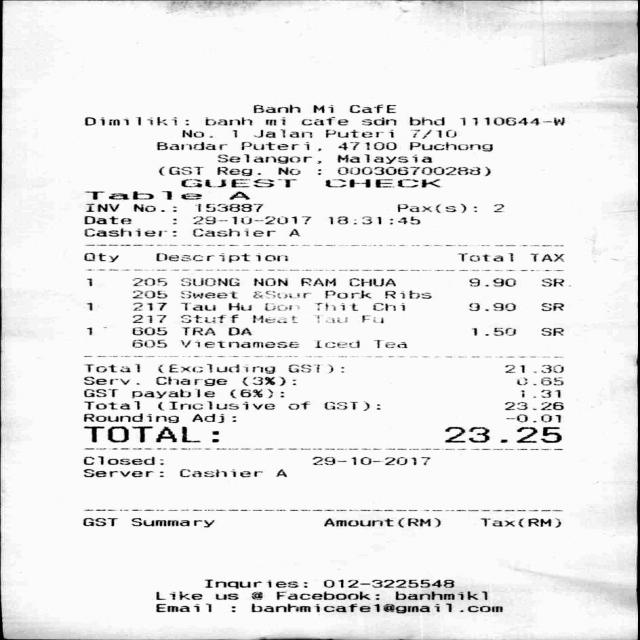text: (249, 603, 502, 613), (82, 424, 202, 444), (439, 426, 562, 444), (336, 166, 490, 176), (156, 253, 291, 262), (84, 190, 201, 200), (156, 400, 273, 410), (323, 579, 453, 588), (180, 178, 295, 188), (324, 178, 439, 188), (165, 364, 276, 374), (311, 456, 430, 465), (180, 339, 298, 348), (216, 153, 310, 164), (203, 578, 306, 588), (192, 226, 275, 238), (479, 516, 562, 528), (82, 413, 178, 423), (458, 117, 564, 126), (191, 216, 310, 224), (336, 154, 431, 164), (83, 116, 188, 125), (408, 141, 492, 152), (276, 591, 378, 600), (131, 388, 213, 399), (130, 518, 215, 528), (178, 468, 261, 478), (82, 228, 164, 238), (395, 591, 486, 600), (83, 468, 162, 478), (396, 203, 466, 214), (327, 216, 419, 224), (240, 141, 311, 151), (155, 376, 226, 386), (84, 456, 158, 465), (155, 141, 226, 150), (324, 129, 392, 138), (194, 203, 262, 212), (80, 363, 141, 373), (323, 518, 390, 527), (252, 128, 311, 138), (323, 401, 379, 411), (83, 400, 138, 410), (343, 277, 397, 287), (241, 376, 295, 386), (228, 388, 282, 398), (503, 401, 563, 410), (180, 314, 238, 323), (180, 277, 237, 286), (457, 253, 512, 262), (83, 376, 138, 385), (155, 603, 210, 612), (336, 142, 396, 150), (503, 365, 563, 373), (251, 290, 310, 298), (180, 290, 236, 298), (504, 414, 560, 422), (411, 129, 455, 139), (216, 166, 260, 176), (383, 290, 431, 299), (298, 276, 337, 287), (300, 116, 347, 125), (204, 116, 251, 125), (324, 290, 371, 299), (515, 377, 562, 386), (348, 105, 394, 114), (157, 167, 202, 176), (156, 591, 201, 600), (400, 518, 440, 528), (132, 203, 176, 212), (470, 327, 514, 336), (467, 278, 515, 286), (467, 303, 515, 311), (252, 105, 299, 113), (316, 302, 357, 311), (84, 216, 130, 224), (251, 315, 296, 323), (520, 389, 560, 398), (314, 340, 358, 348), (132, 326, 166, 336), (82, 388, 116, 398), (192, 414, 226, 424), (287, 364, 320, 374), (408, 116, 444, 125), (374, 340, 406, 350), (82, 253, 117, 262), (252, 277, 287, 286), (179, 302, 214, 311), (82, 517, 117, 526), (529, 253, 563, 262), (132, 302, 166, 311), (131, 314, 165, 323), (132, 339, 166, 348), (85, 203, 118, 212), (130, 278, 166, 286), (372, 302, 404, 311), (360, 117, 395, 125), (181, 129, 212, 138), (132, 290, 166, 298), (313, 315, 346, 323), (181, 327, 214, 335), (227, 326, 250, 336), (264, 302, 291, 310), (287, 400, 308, 410), (540, 278, 566, 286), (227, 302, 250, 311), (540, 327, 563, 336), (277, 166, 299, 175), (540, 303, 563, 311), (229, 191, 248, 200), (361, 315, 382, 323), (215, 593, 238, 600), (264, 117, 284, 125), (313, 105, 332, 113), (250, 591, 262, 600), (85, 326, 95, 336), (492, 204, 503, 212), (276, 468, 285, 477), (288, 228, 298, 236), (85, 302, 91, 311), (85, 278, 91, 286), (231, 130, 236, 138), (316, 169, 320, 175), (172, 218, 176, 224), (230, 606, 234, 612), (309, 509, 309, 511)
